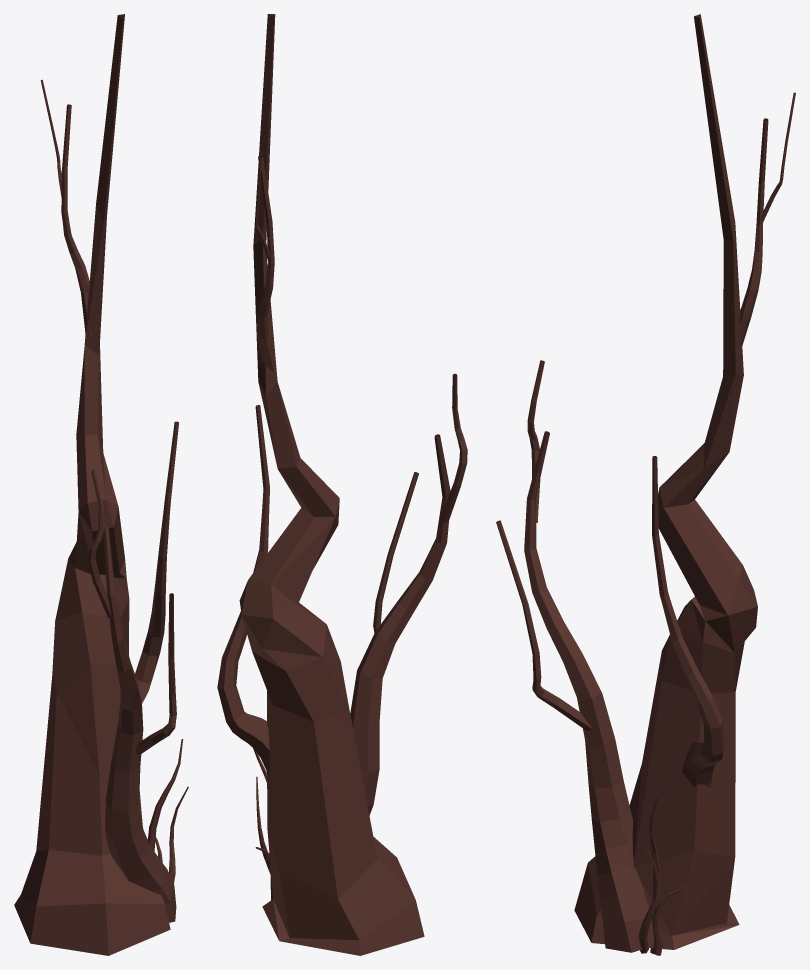
Rendered from small-tree_3.fbx.
3 renders of one model, left to right at view 1: azimuth 30°, elevation 25°; view 2: azimuth 150°, elevation 25°; view 3: azimuth 270°, elevation 25°, orthographic. The views are drawn at different scales.
Parts seen in each view (by area): view 1: tree 1.022; view 2: tree 1.022; view 3: tree 1.022.
Boxes of the visible parts, x1,y1,x2,y2 form: tree 1.022: (14,14,188,955); tree 1.022: (217,14,467,955); tree 1.022: (496,14,795,955).
Bounding box in the file's own units: 1.73 × 8.9 × 2.59.
